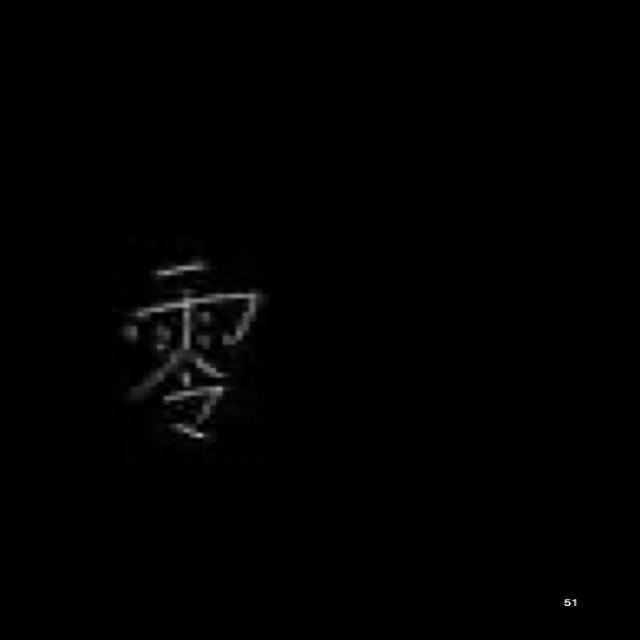0 -zero-: (110, 256, 268, 450)
